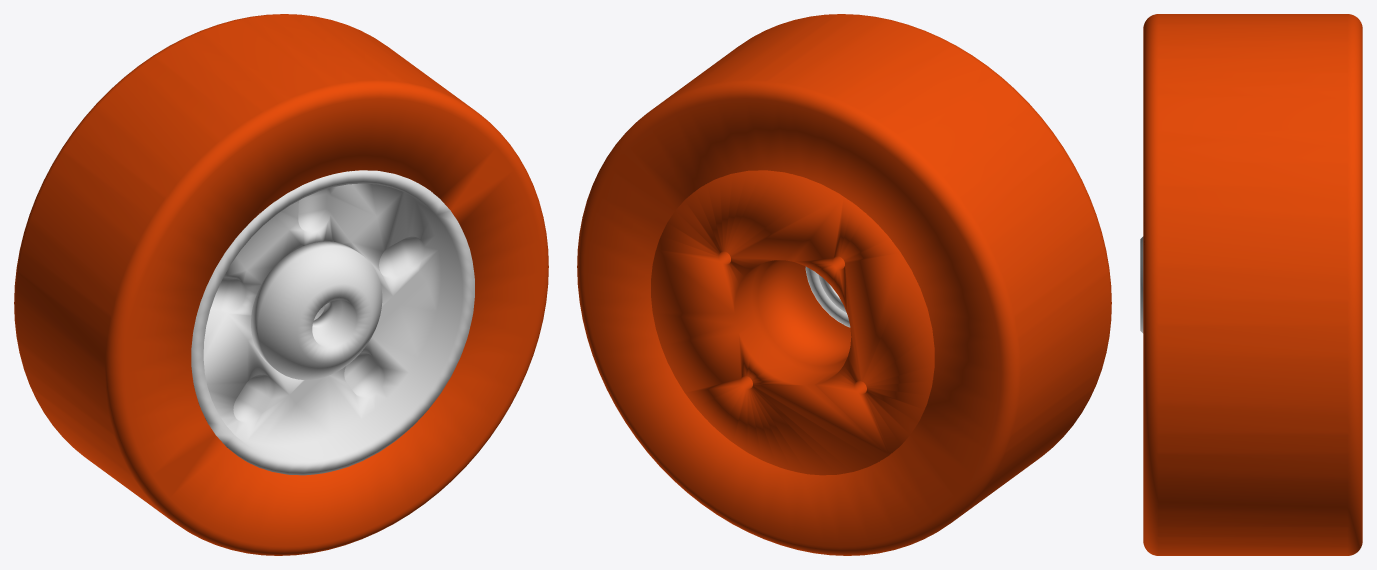
The model's file is right_rear_wheel.dae.
The picture shows the model from 3 angles, left to right: view 1: azimuth 30°, elevation 25°; view 2: azimuth 150°, elevation 25°; view 3: azimuth 270°, elevation 25°; orthographic projection. The views are drawn at different scales.
Parts seen in each view (by area): view 1: right_rear_wheel; view 2: right_rear_wheel; view 3: right_rear_wheel.
Part boxes in pixels (x1,y1,x2,y2): right_rear_wheel: [14, 14, 548, 555]; right_rear_wheel: [577, 14, 1111, 555]; right_rear_wheel: [1140, 14, 1362, 555].
Bounding box in the file's own units: 0.1743 × 0.0716 × 0.1743.
